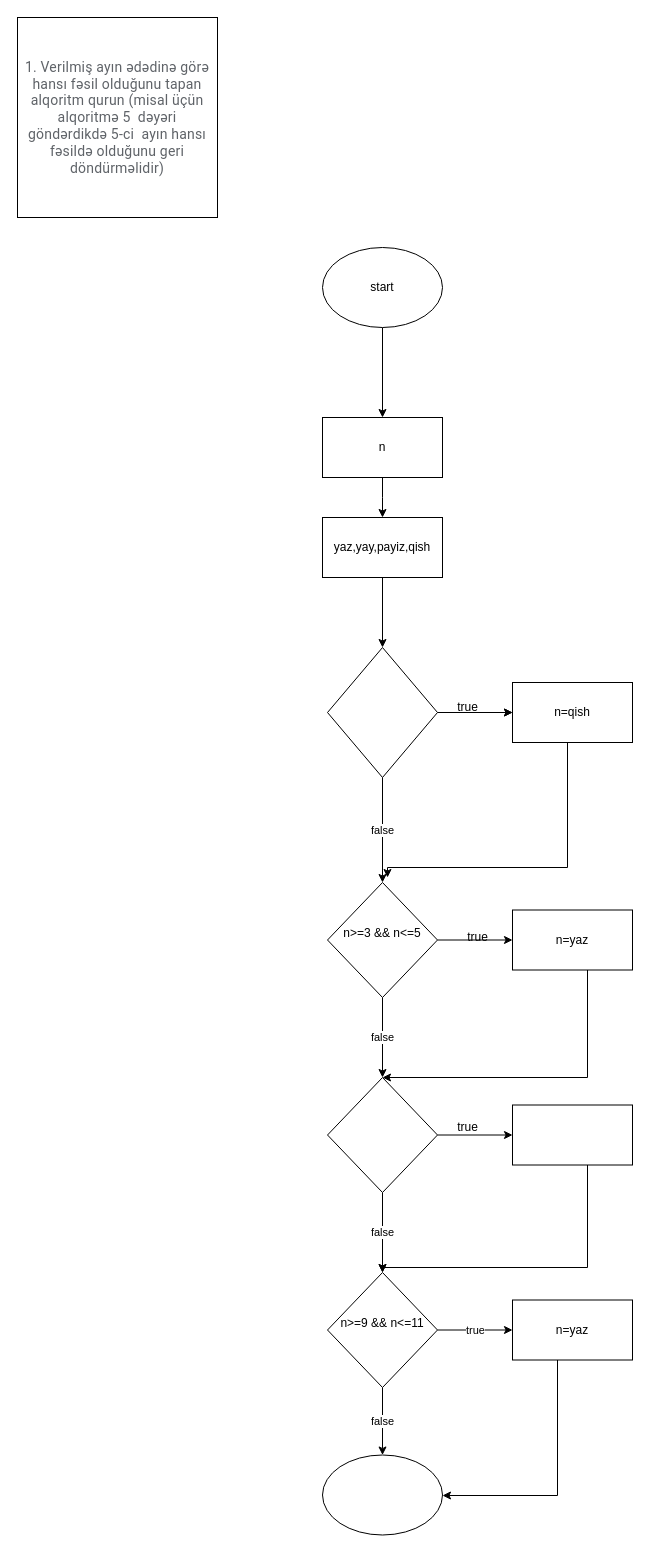
This 650x1553 diagram has some shape labels left out. The centre of each missing label's shape, as x and y in pixels:
end: pixel 382 1494
n=yay: pixel 572 1134
n>=1 && n<=2 &&n=12: pixel 382 712
n>=6 && n<=8: pixel 382 1134
